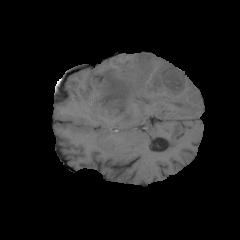glioma: (96, 53, 198, 126)
